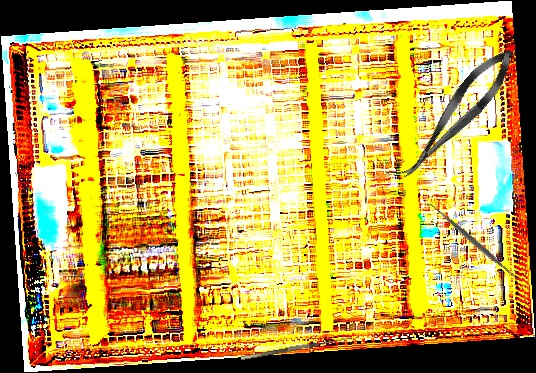Hook Surgical: (239, 330, 353, 361)
Micro Scissor: (391, 40, 524, 189)
Spatula Surgical: (424, 197, 523, 286)
